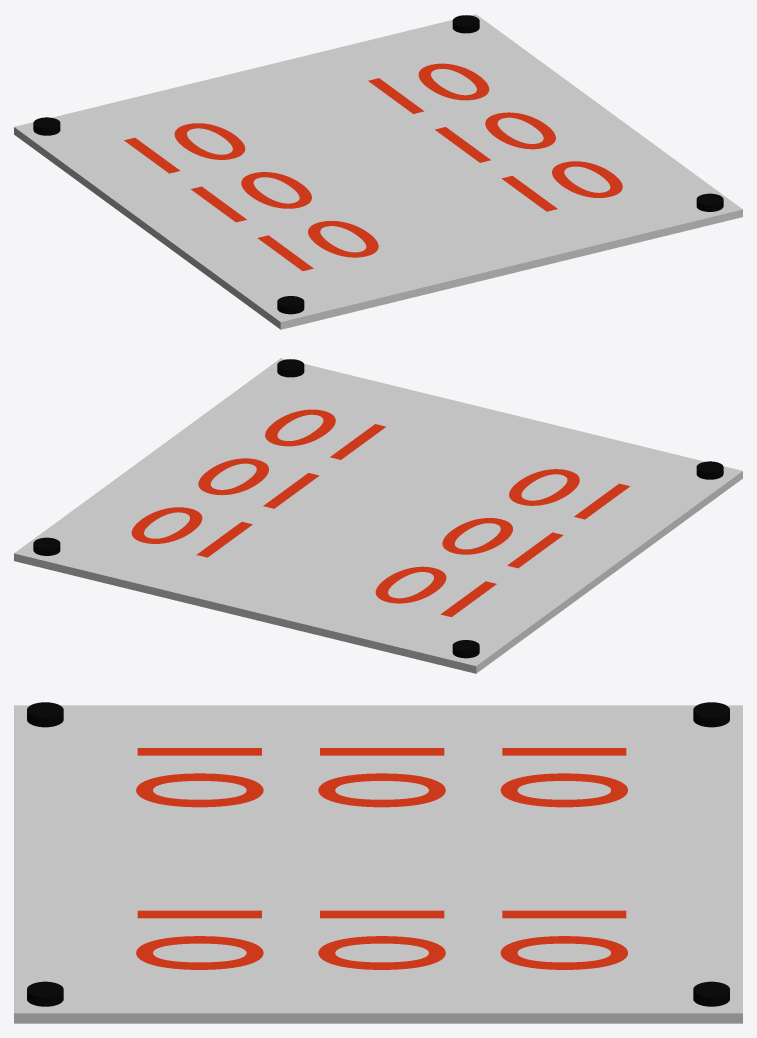
File: n10_office.fbx
The picture shows the model from 3 angles, top to bottom: view 1: azimuth 30°, elevation 25°; view 2: azimuth 150°, elevation 25°; view 3: azimuth 270°, elevation 25°; orthographic projection. The views are drawn at different scales.
Visible parts, largest first — view 1: Plane, 10, Cylinder; view 2: Plane, 10, Cylinder; view 3: Plane, 10, Cylinder.
Part boxes in pixels (left/top/right/bottom): Plane: left=14, top=14, right=742, bottom=329; 10: left=124, top=63, right=622, bottom=270; Cylinder: left=33, top=15, right=723, bottom=314; Plane: left=14, top=358, right=742, bottom=673; 10: left=131, top=409, right=629, bottom=616; Cylinder: left=33, top=359, right=723, bottom=658; Plane: left=14, top=705, right=742, bottom=1023; 10: left=136, top=748, right=627, bottom=969; Cylinder: left=27, top=702, right=729, bottom=1006.
Size of the model in its own units: 200 by 6.02 by 200.
